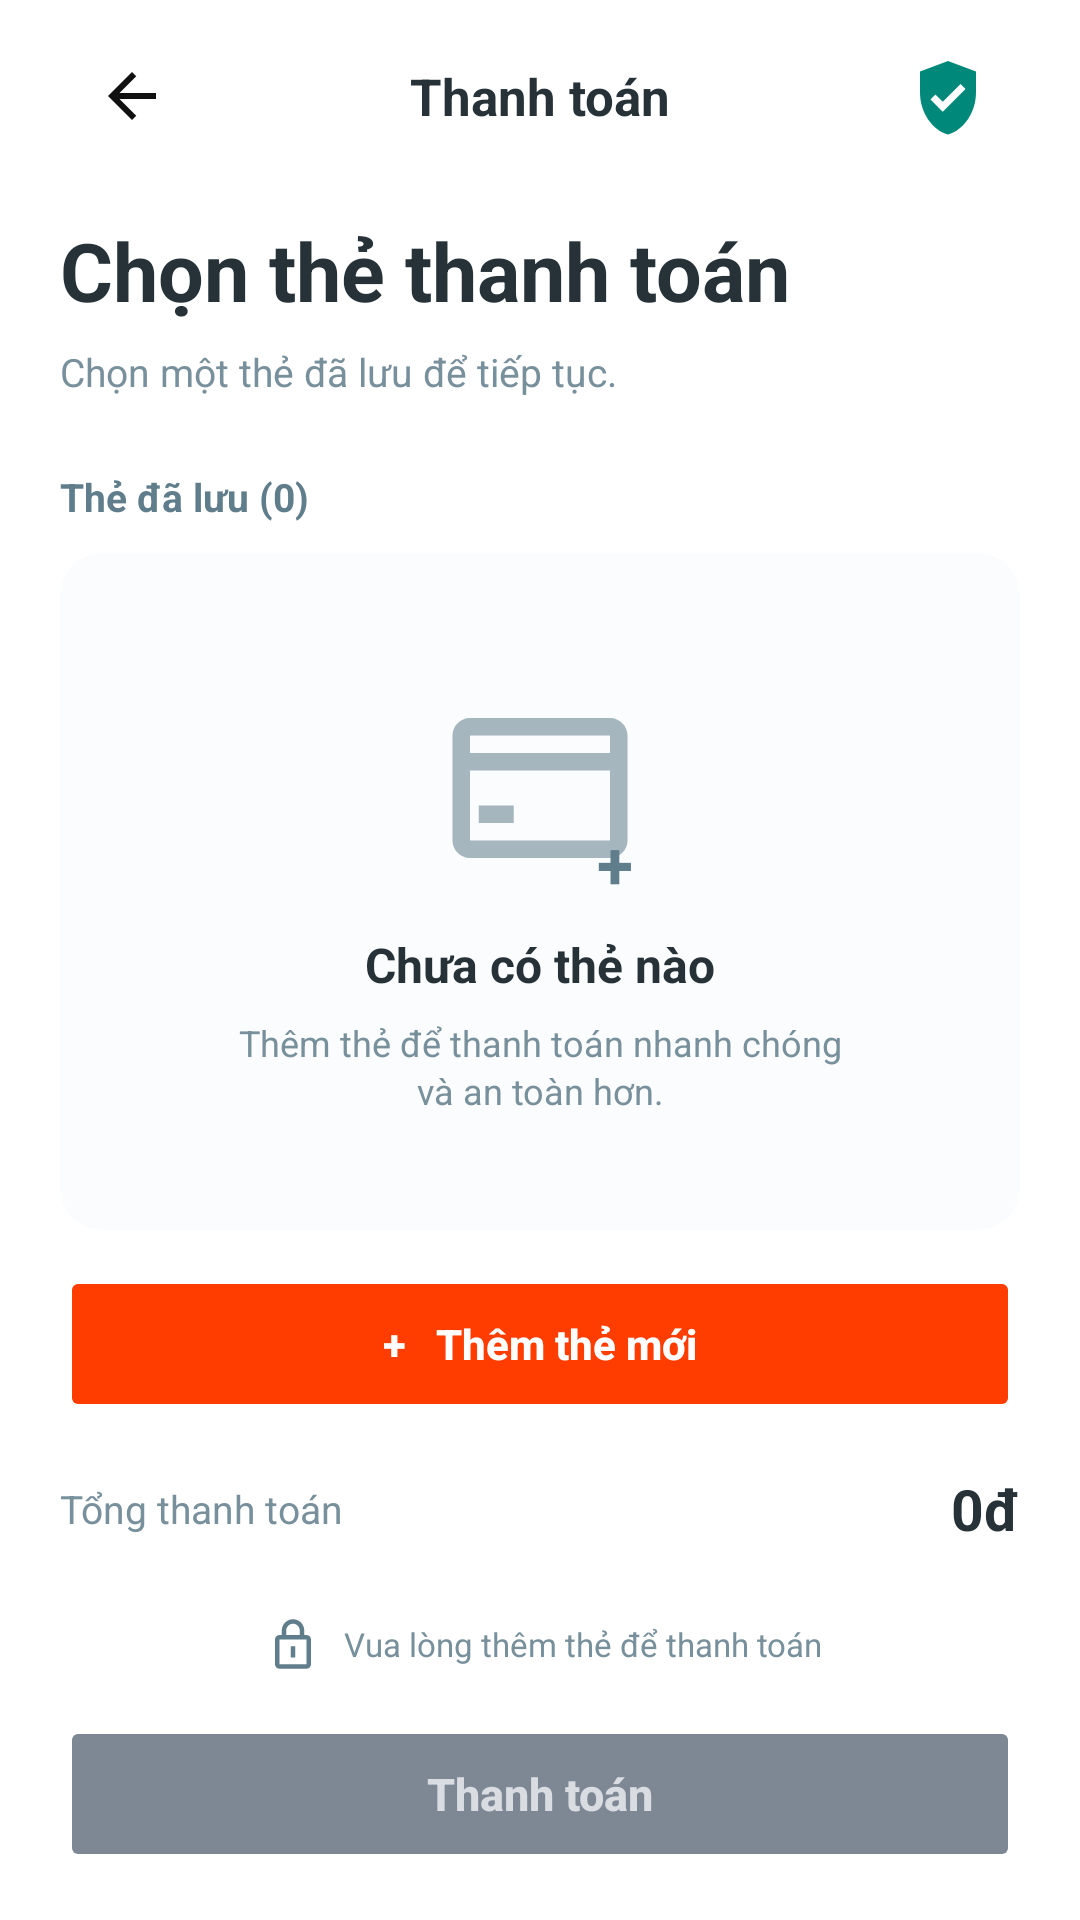

Point at icon controls on the screen. Image size 1080 x 1920, points as point (x, y).
lock: point (293, 1644)
Quay lại: point (132, 96)
security check: point (948, 98)
